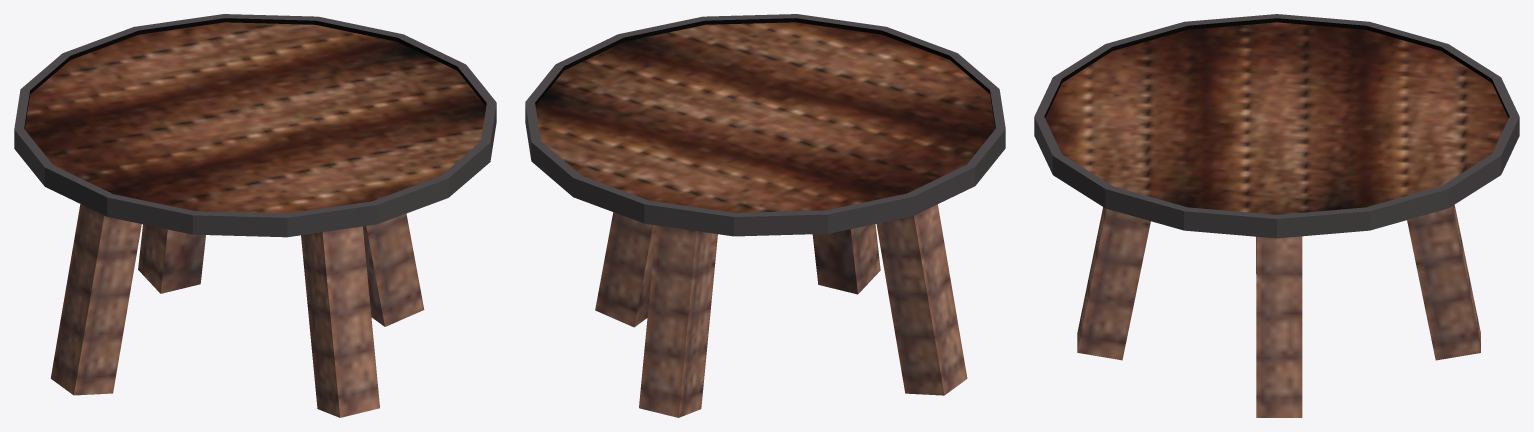
The model's file is chair2.fbx.
3 views of the same model, side by side, from view 1: azimuth 30°, elevation 25°; view 2: azimuth 150°, elevation 25°; view 3: azimuth 270°, elevation 25° (orthographic).
Parts seen in each view (by area): view 1: chair2; view 2: chair2; view 3: chair2.
Part boxes in pixels (box(x1,y1,x2,y2)): chair2: box(14, 14, 496, 417); chair2: box(525, 14, 1005, 417); chair2: box(1034, 14, 1519, 417).
Size of the model in its own units: 18.83 by 9.93 by 18.83.
